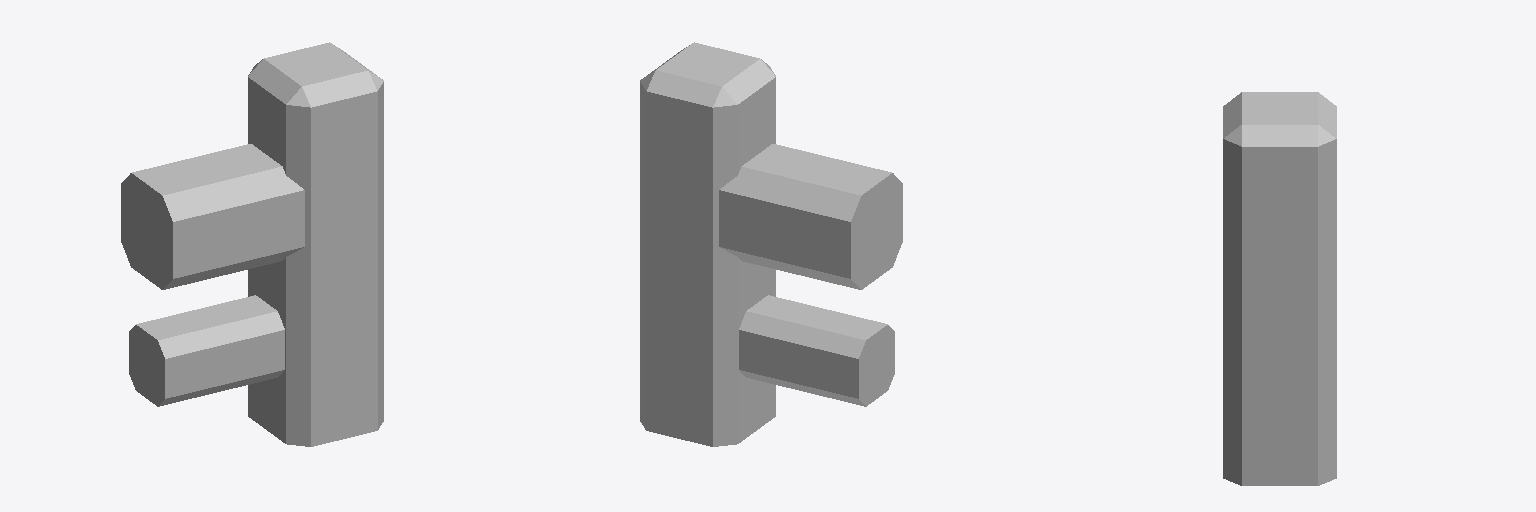
The model's file is Fence_End.obj.
3 renders of one model, left to right at view 1: azimuth 30°, elevation 25°; view 2: azimuth 150°, elevation 25°; view 3: azimuth 270°, elevation 25°, orthographic.
Visible parts, largest first — view 1: Fence_End_Cube.040; view 2: Fence_End_Cube.040; view 3: Fence_End_Cube.040.
Part boxes in pixels (bbox=[...]): Fence_End_Cube.040: bbox=[121, 42, 383, 446]; Fence_End_Cube.040: bbox=[640, 42, 902, 446]; Fence_End_Cube.040: bbox=[1223, 92, 1336, 485].
Size of the model in its own units: 1.29 by 2 by 0.5812.